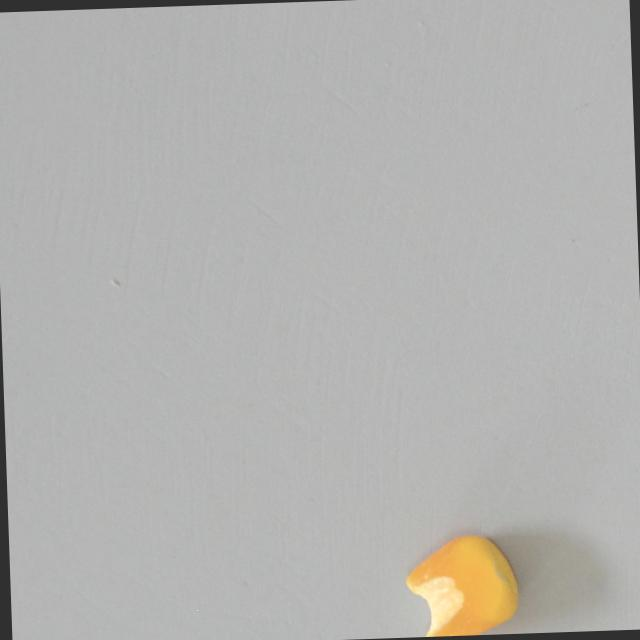dañado: (394, 516, 527, 637)
